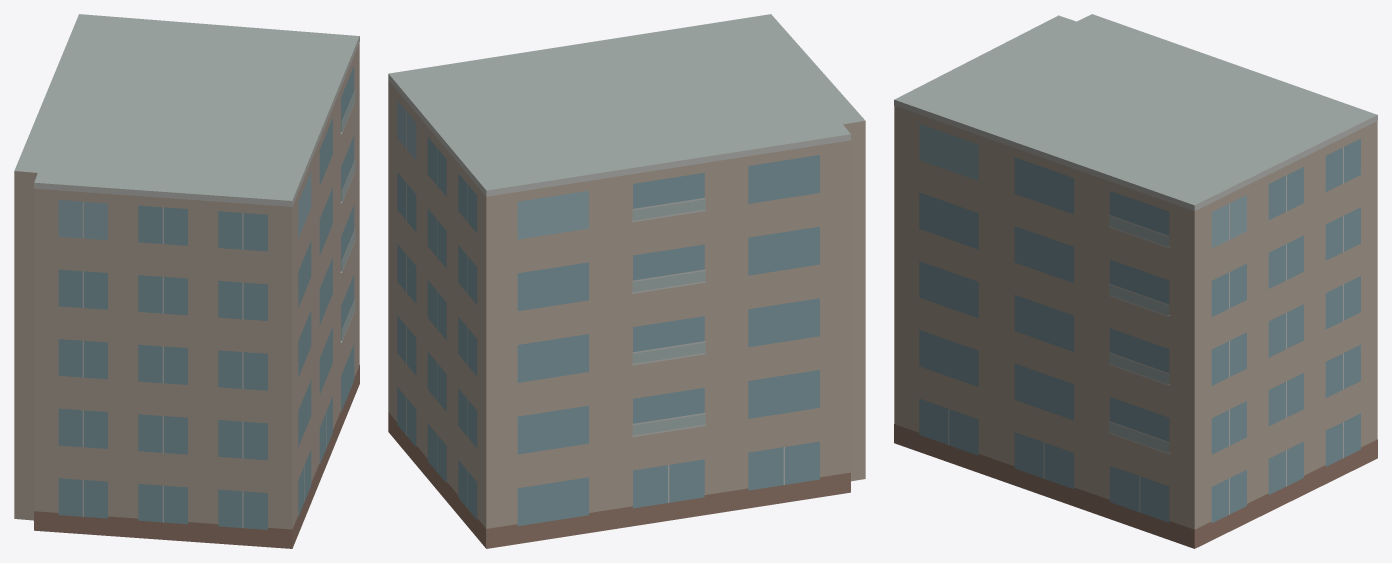
The model's file is survey-upis-32975709.glb.
3 renders of one model, left to right at view 1: azimuth 30°, elevation 25°; view 2: azimuth 150°, elevation 25°; view 3: azimuth 270°, elevation 25°, orthographic. The views are drawn at different scales.
Parts seen in each view (by area): view 1: survey-upis-32975709.tmp; view 2: survey-upis-32975709.tmp; view 3: survey-upis-32975709.tmp.
Part boxes in pixels (x1=…): survey-upis-32975709.tmp: x1=14, y1=14, x2=359, y2=548; survey-upis-32975709.tmp: x1=388, y1=14, x2=865, y2=548; survey-upis-32975709.tmp: x1=894, y1=14, x2=1377, y2=548.
Size of the model in its own units: 17.1 by 14.3 by 18.25.
